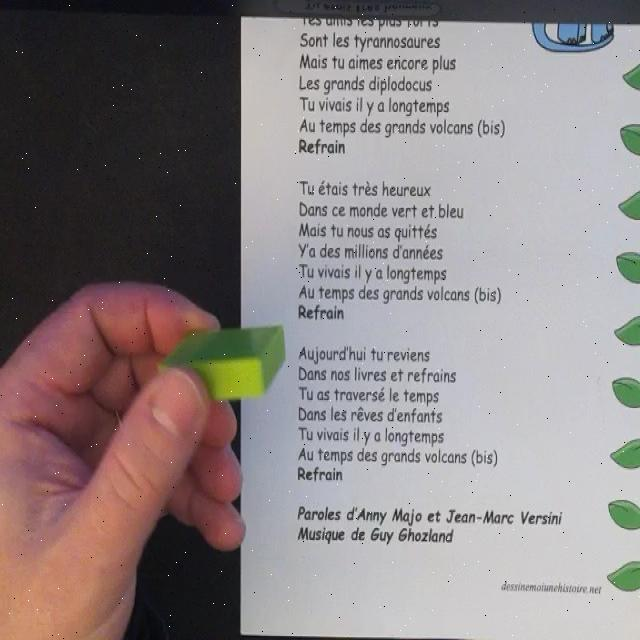square: (157, 324, 285, 399)
